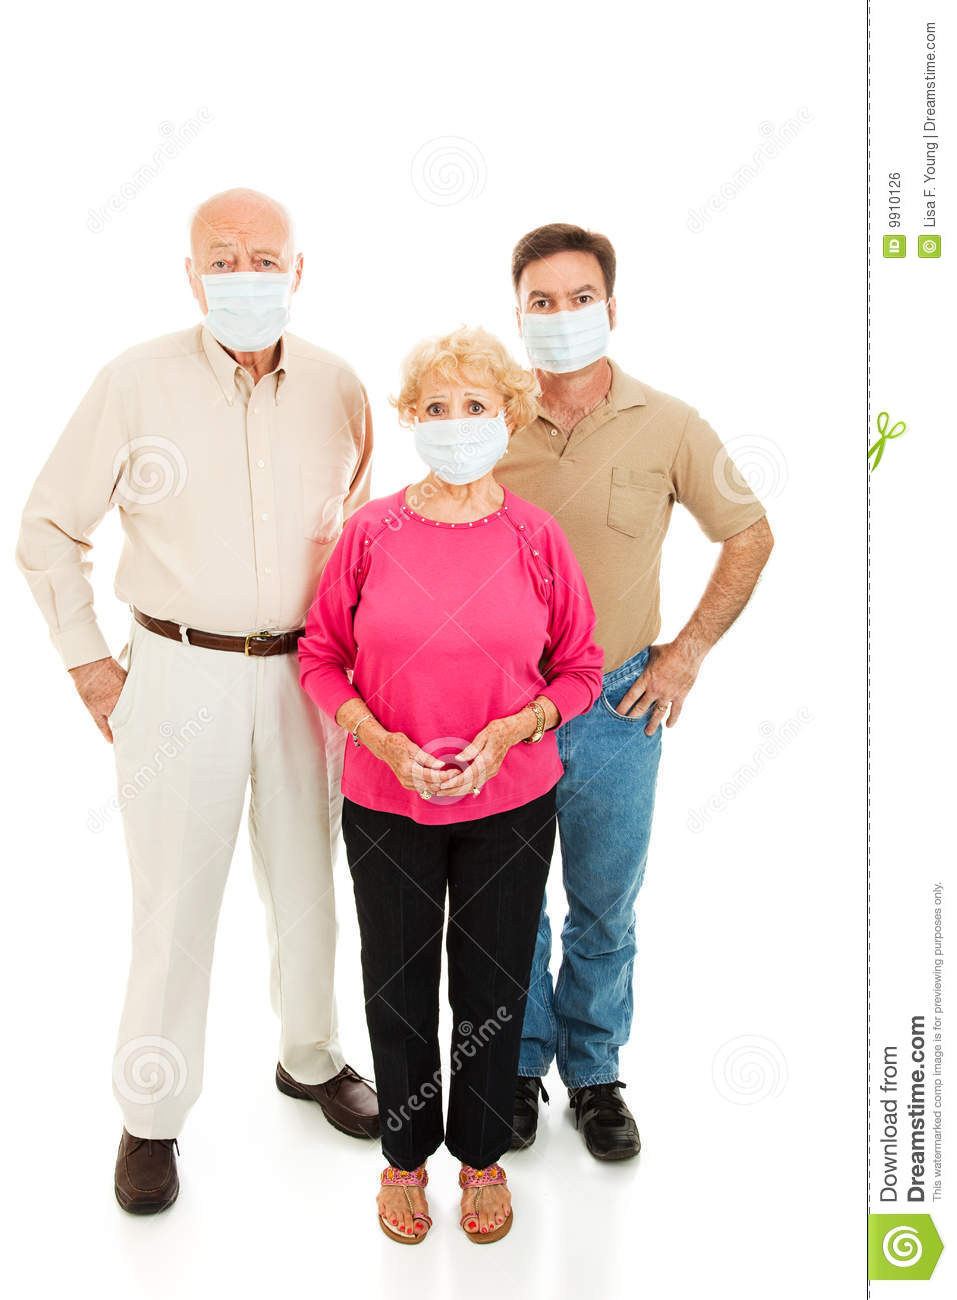mask: (201, 273, 295, 356), (521, 303, 614, 375), (416, 417, 508, 486)
